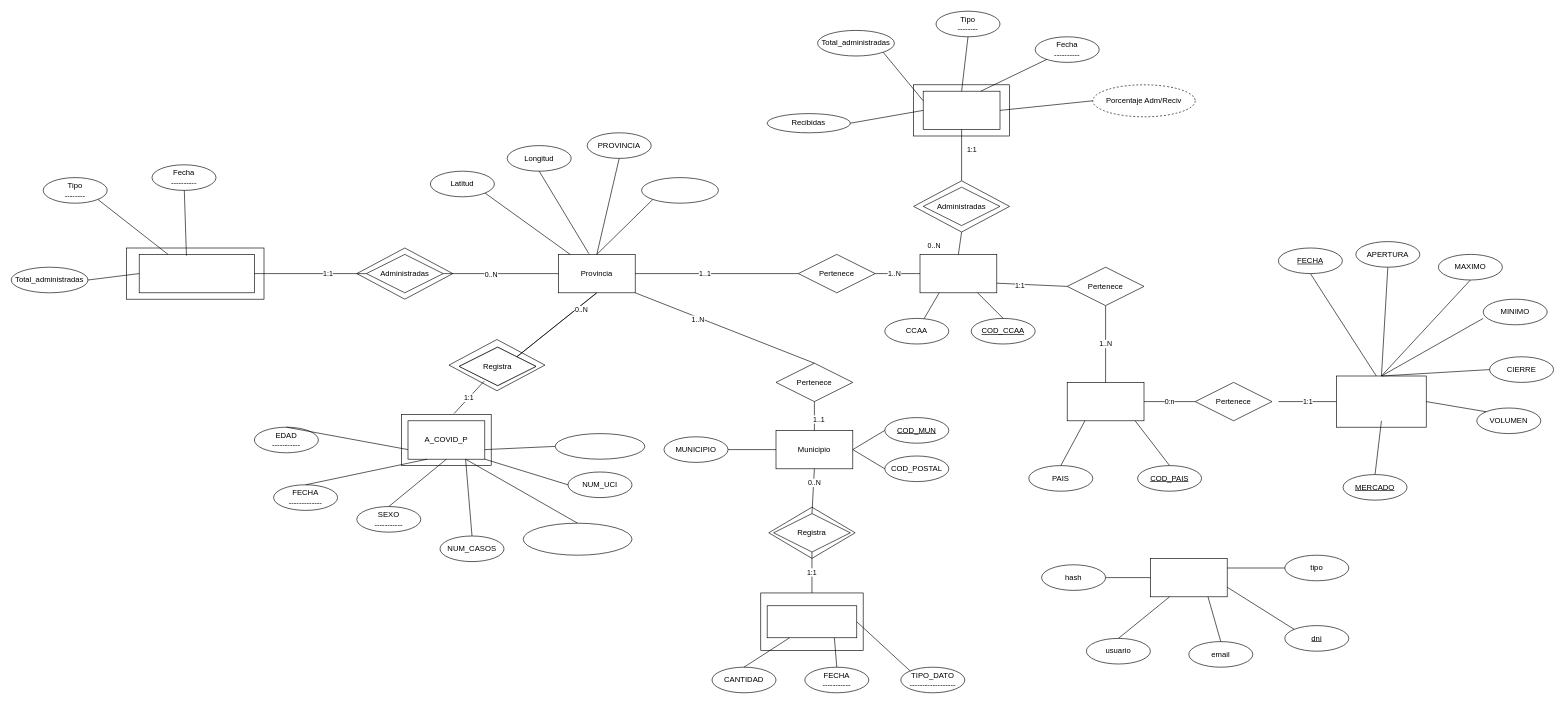
The diagram is 1565 pixels wide and 704 high, and some of its shapes have lost their labels. The centre of each missing label's shape, as x and y in pixels:
A_COVID_M: point (812, 621)
A_FINANCIERA: point (1381, 401)
COD_PROVINCIA: point (679, 190)
Comunidad Autónoma: point (958, 273)
NUM_DEFUNCIONES: point (600, 446)
NUM_HOSPITALIZACIONES: point (577, 539)
País: point (1105, 401)
Usuarios: point (1188, 577)
VACUNAS_CCAA: point (961, 110)
VACUNAS_PROVINCIAS: point (196, 273)
